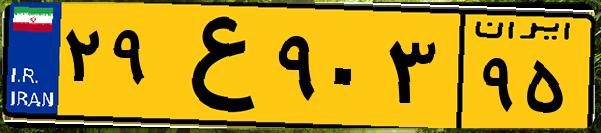0: (330, 28, 385, 110)
2: (57, 26, 110, 100)
3: (385, 28, 445, 110)
5: (525, 38, 570, 115)
9: (270, 28, 330, 110), (475, 38, 525, 113), (110, 28, 158, 98)
ع: (158, 12, 270, 120)
